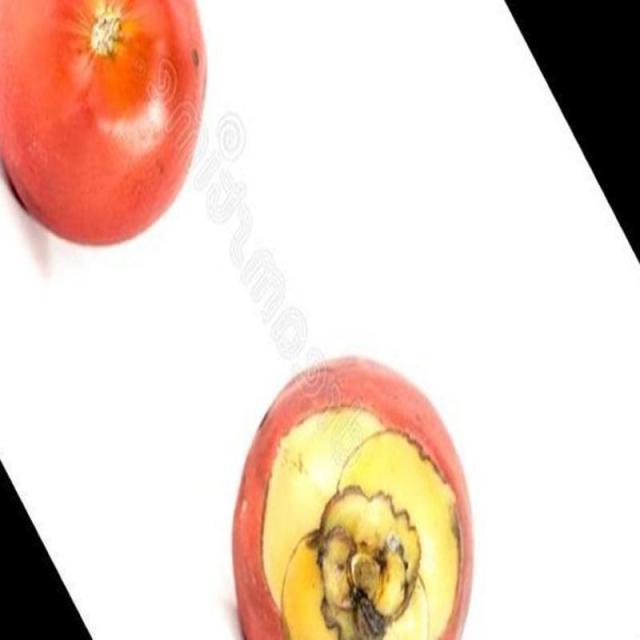good: (231, 357, 474, 639)
